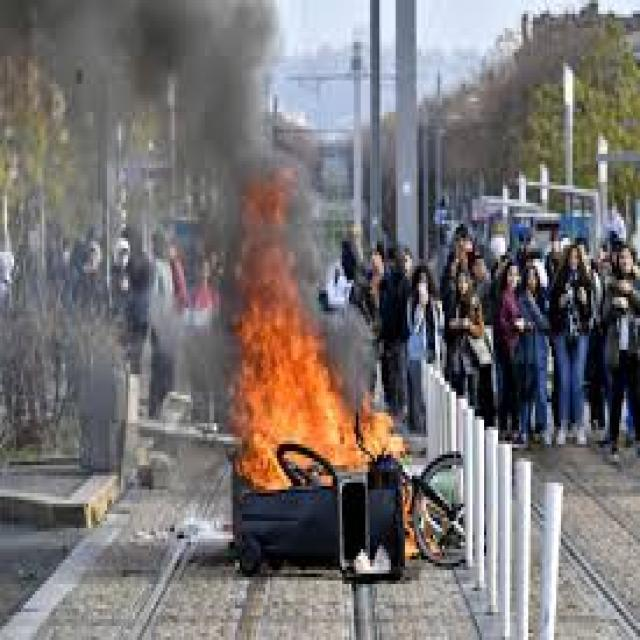Fire: (234, 172, 342, 402), (234, 403, 406, 488), (404, 487, 419, 561)
Smoke: (51, 0, 278, 173), (183, 322, 234, 406), (344, 298, 376, 402)
